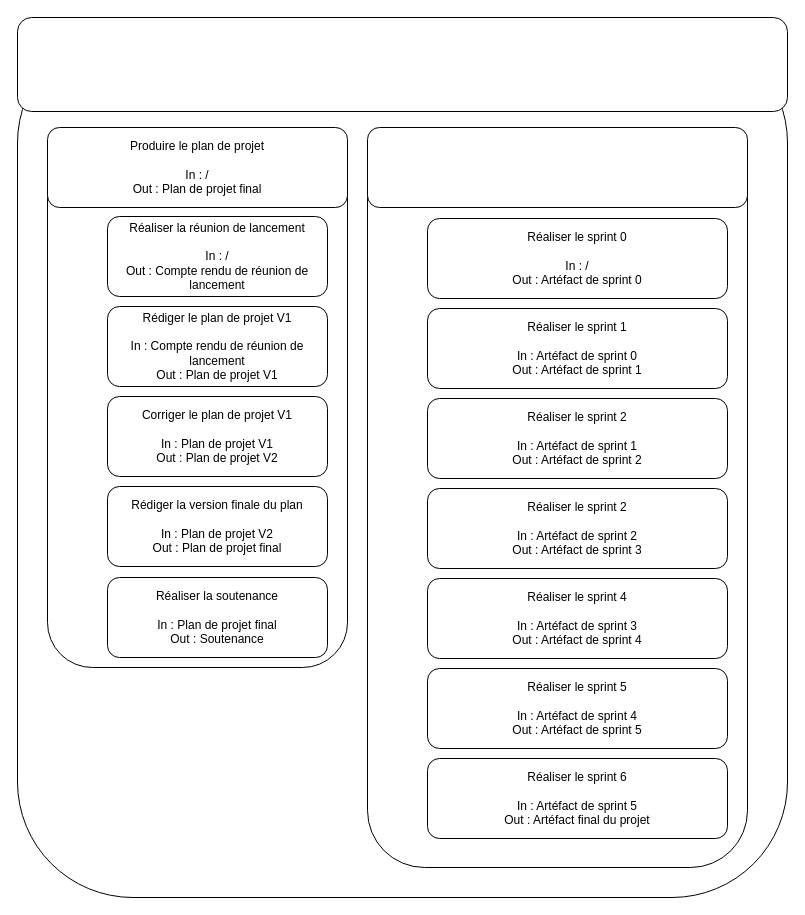
The diagram is 805 pixels wide and 915 high, and some of its shapes have lost their labels. Here are the shapes that lost their labels. From the top down, the centre of each, then its label:
At (402,64): "Réaliser le projet In : / Out : Plan de projet final, Artéfact final du projet".
At (557,167): "Réaliser le développement In : / Out : Artéfact final du projet".
